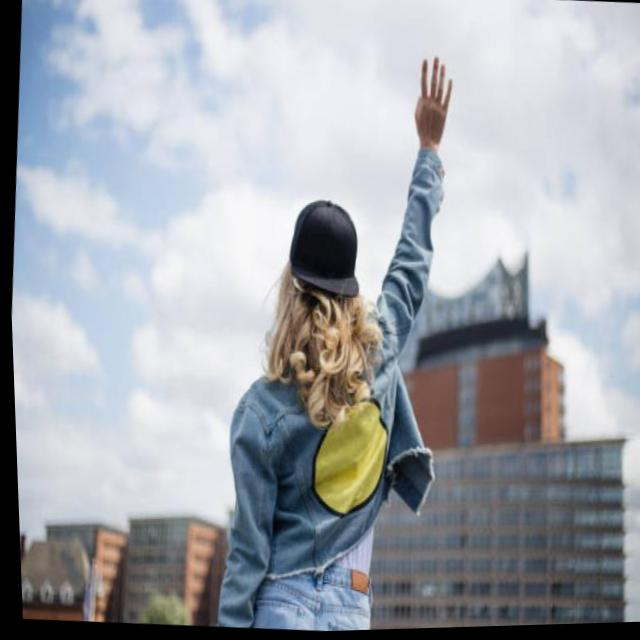no helmet: (255, 183, 375, 364)
